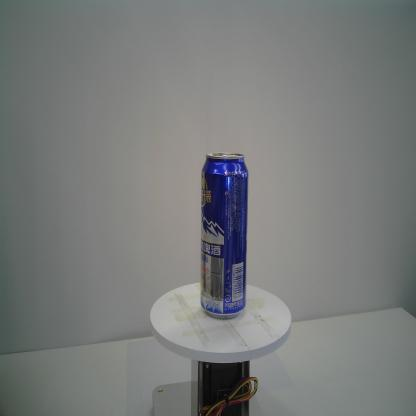Alcohol: (200, 152, 249, 320)
